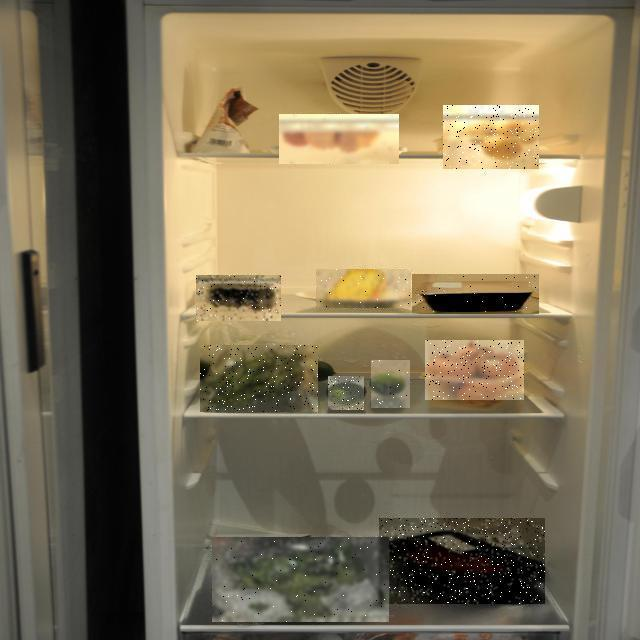Beans: (200, 345, 318, 412)
Cheese: (316, 269, 411, 308)
Eggs: (279, 114, 399, 164)
Lime: (371, 360, 410, 408), (328, 376, 364, 410)
Meat: (379, 518, 545, 604), (412, 274, 539, 314)
Olives: (196, 275, 281, 321)
Onion: (425, 340, 524, 400)
Potatoes: (443, 105, 539, 169)
Spinach: (212, 537, 389, 622)
